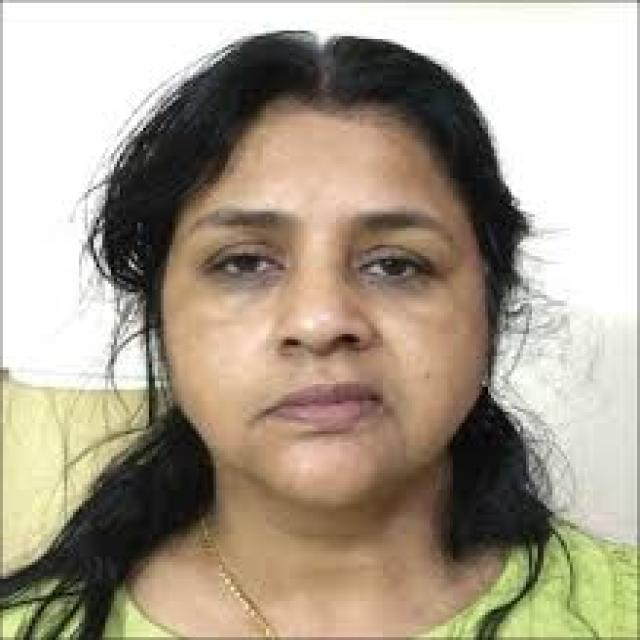stroke_face: (166, 88, 478, 501)
